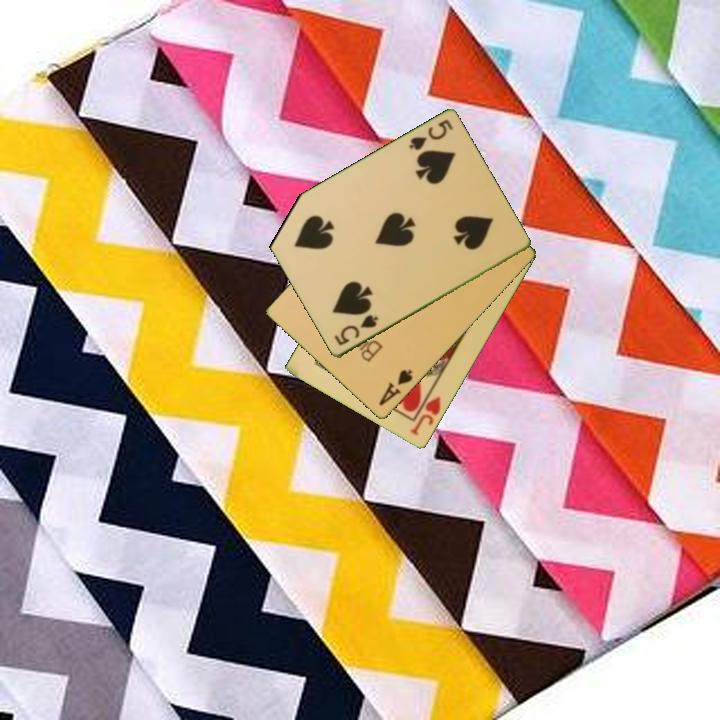5s: (330, 311, 381, 349), (405, 116, 456, 154)
As: (375, 366, 416, 409)
Jh: (407, 393, 444, 439)
